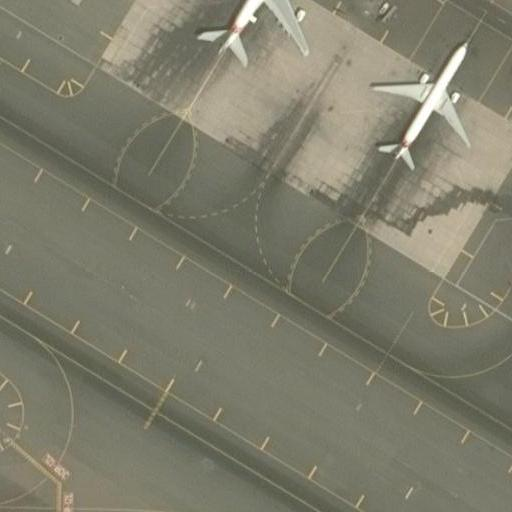Aircraft: (365, 27, 487, 178), (187, 0, 312, 73)
